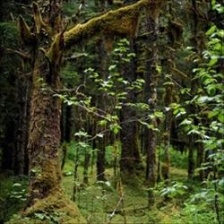neutral: (5, 2, 224, 222)
